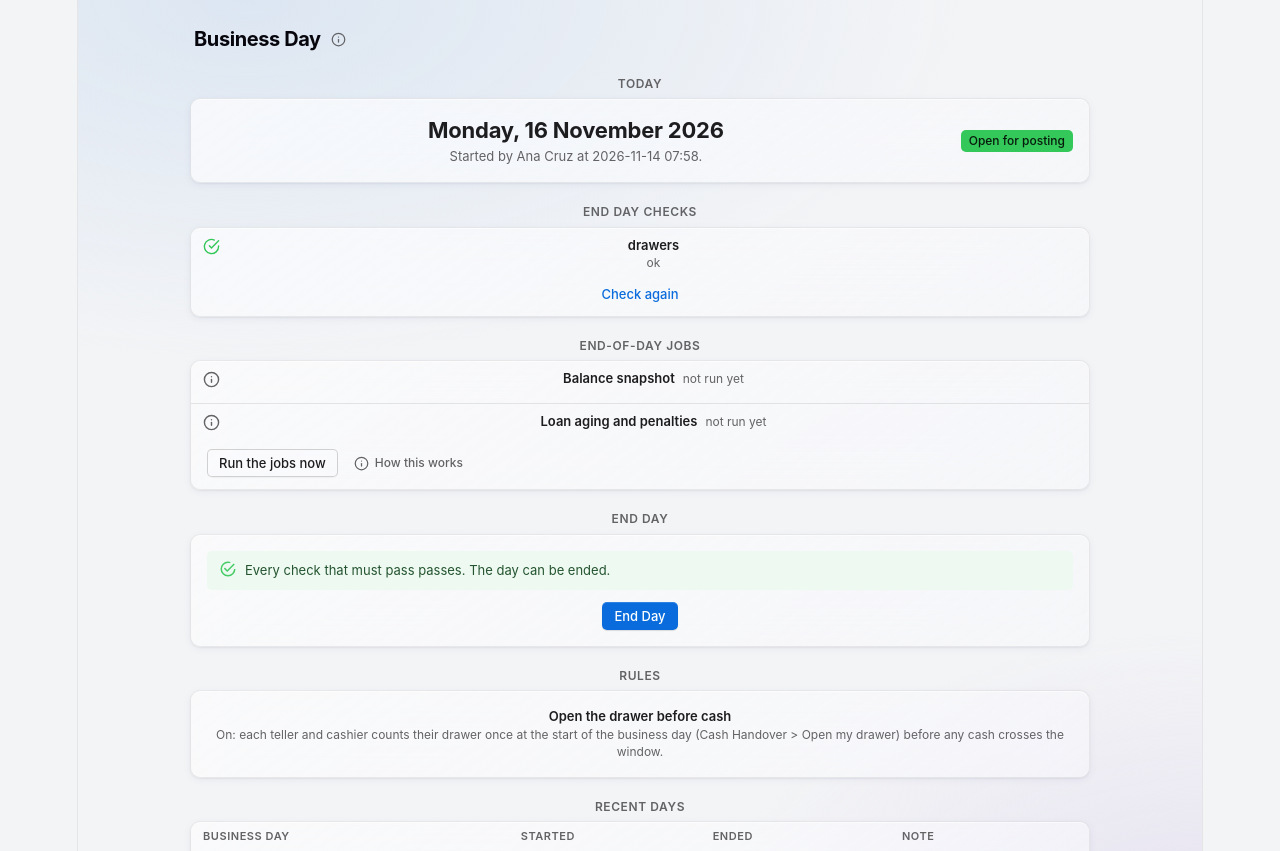
Test: Business Day › lists the end-of-day jobs, runs them, and shows a step that failed with its reason
Expected: the list item with aria-label "Balance snapshot: not run" is shown, [203, 370, 744, 388]
Click the button "Run the jobs now": coordinates (272, 463) [207, 449, 338, 477]
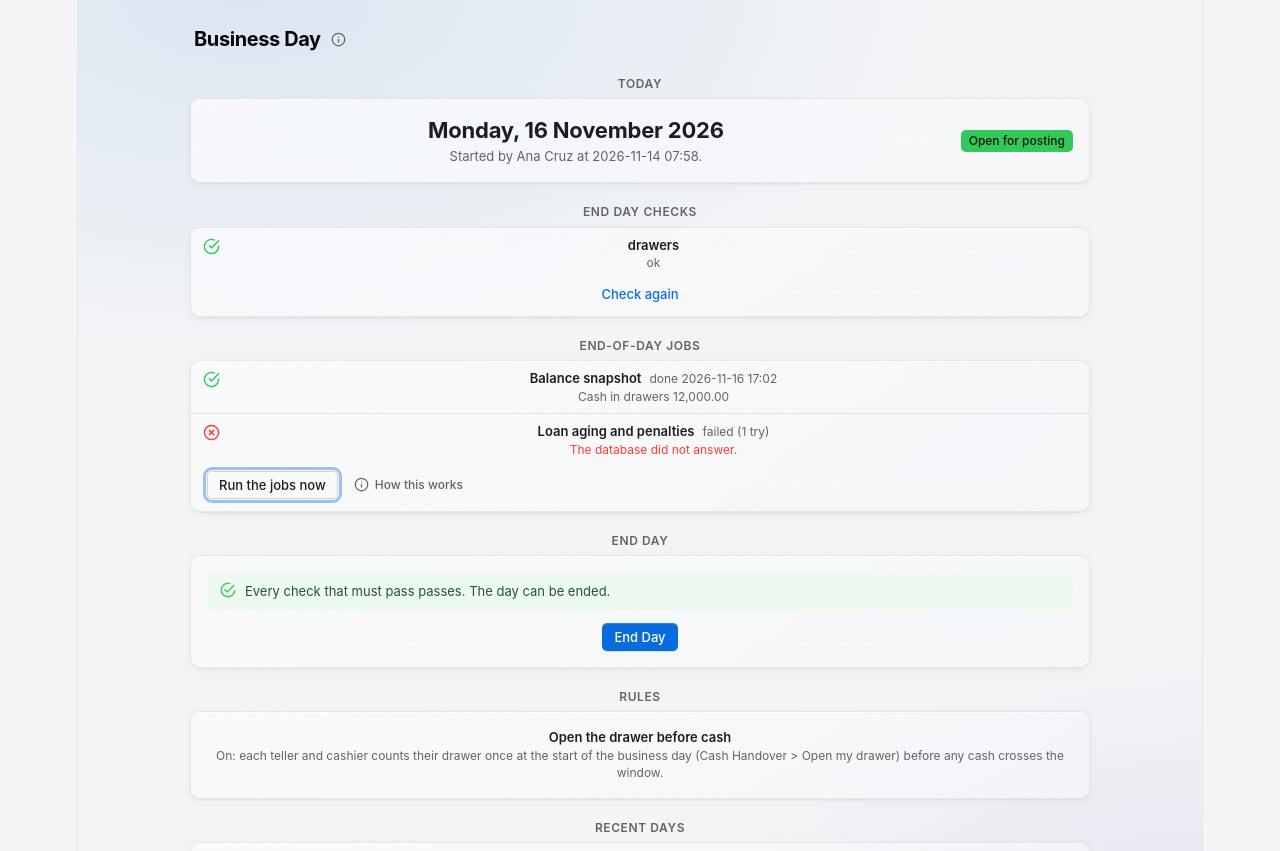
Now the text "Cash in drawers 12,000.00" is shown, box [578, 389, 729, 404]
Now the list item with aria-label "Loan aging and penalties: failed" shows "The database did not answer.", box [570, 442, 737, 457]
